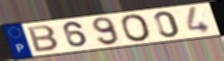0: (153, 10, 180, 39)
4: (187, 6, 212, 36)
6: (62, 21, 89, 49)
9: (91, 16, 121, 46)
B: (26, 24, 62, 54)
O: (119, 13, 154, 43)
